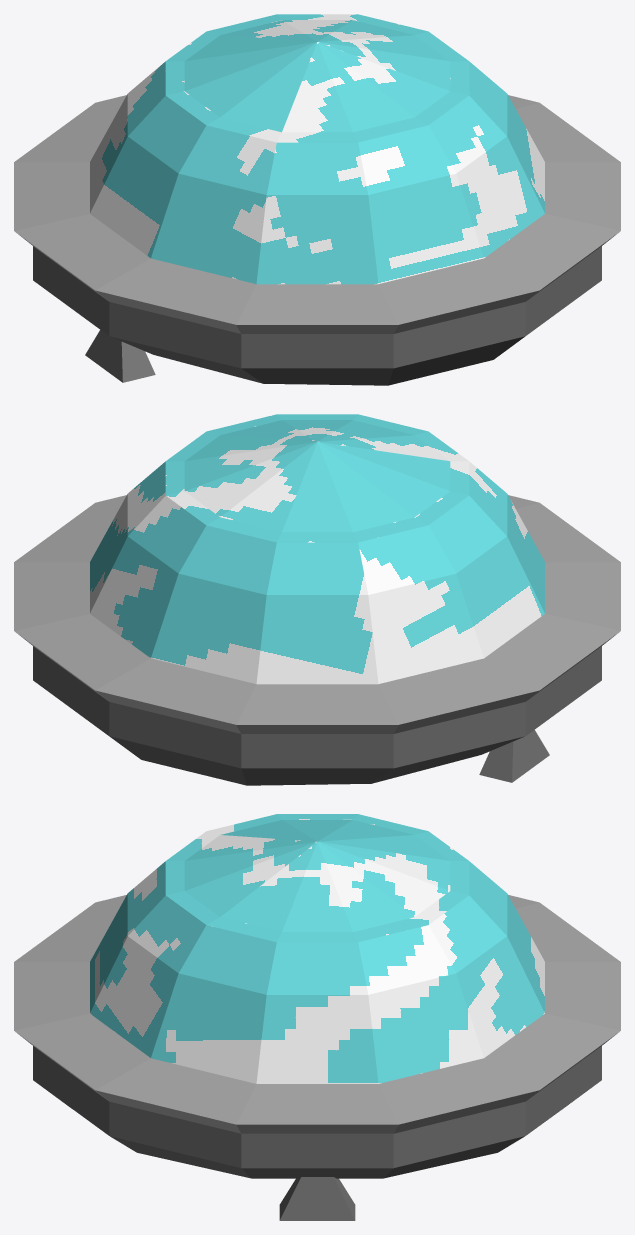
The model's file is nave.glb.
3 views of the same model, one above another, from view 1: azimuth 30°, elevation 25°; view 2: azimuth 150°, elevation 25°; view 3: azimuth 270°, elevation 25° (orthographic).
Parts seen in each view (by area): view 1: cylinder, pyramidRight; view 2: cylinder, pyramidRight; view 3: cylinder, pyramidLeft.
Part boxes in pixels (box(x1,y1,x2,y2)): cylinder: box(14, 14, 620, 385); pyramidRight: box(85, 330, 155, 382); cylinder: box(14, 414, 620, 785); pyramidRight: box(479, 730, 549, 782); cylinder: box(14, 814, 620, 1178); pyramidLeft: box(279, 1177, 355, 1220).
Size of the model in its own units: 3.5 by 1.75 by 3.5.
1 material, 1 textured.
